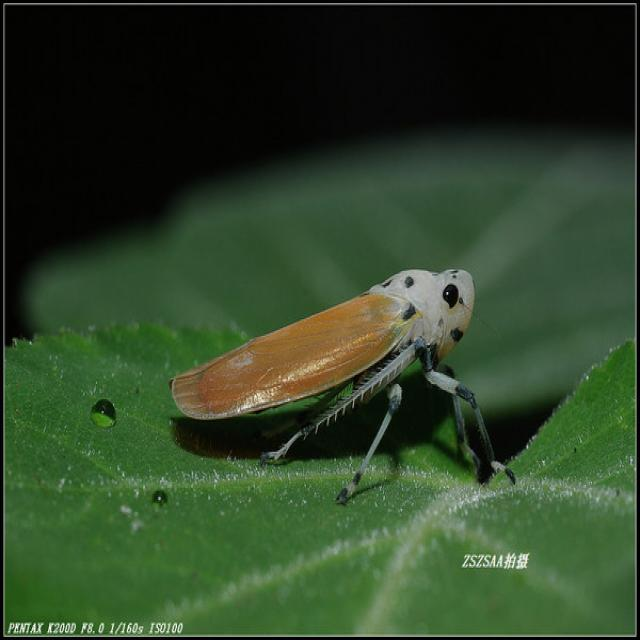Yechan: (165, 255, 498, 483)
